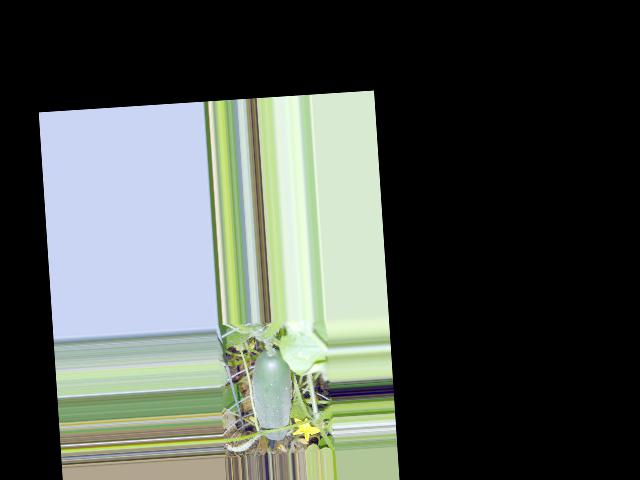cucumber: (248, 347, 294, 441)
